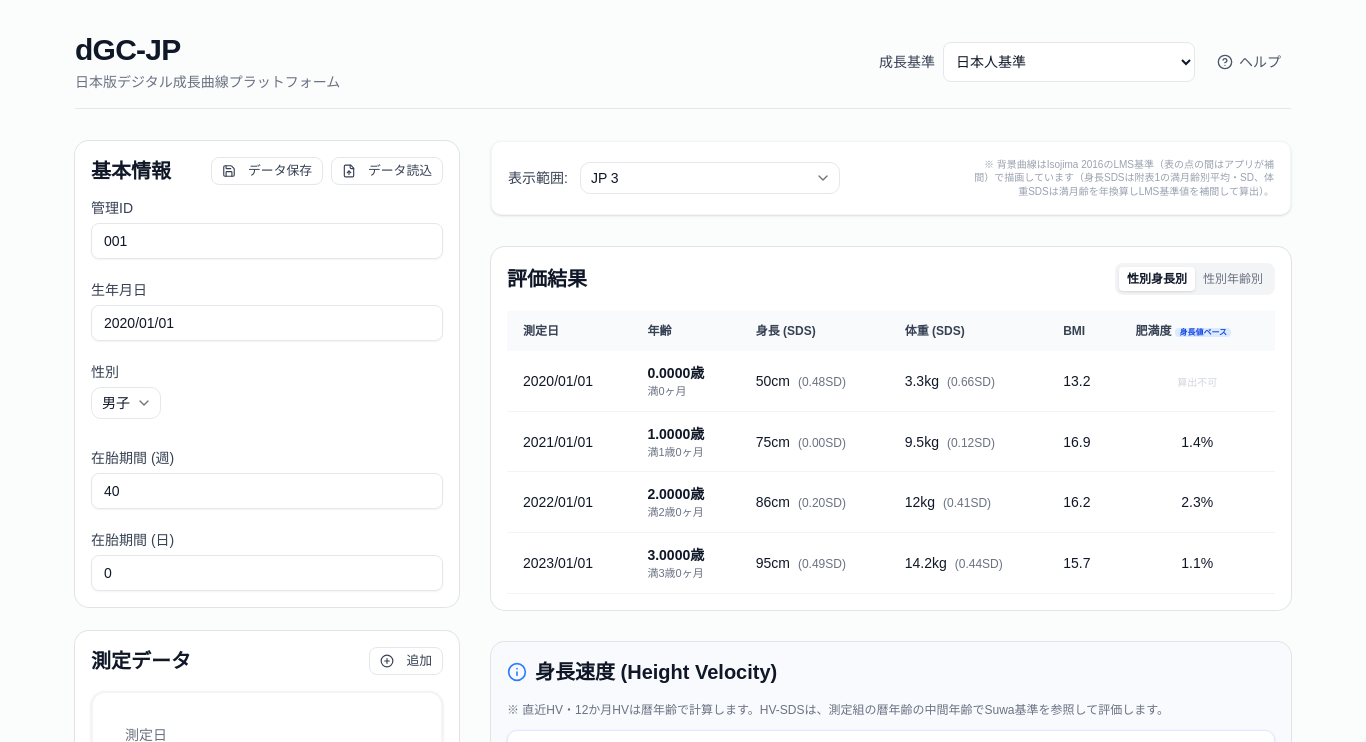
it: GrowthDashboard: returning to the Japanese reference › restores the Japanese results and features exactly as before
The width and height of the screenshot is (1366, 742).
Select "軟骨無形成症（CLARITY・米国）" in the dropdown labelled "成長基準" at {"x": 1069, "y": 62}, box [943, 42, 1195, 82]
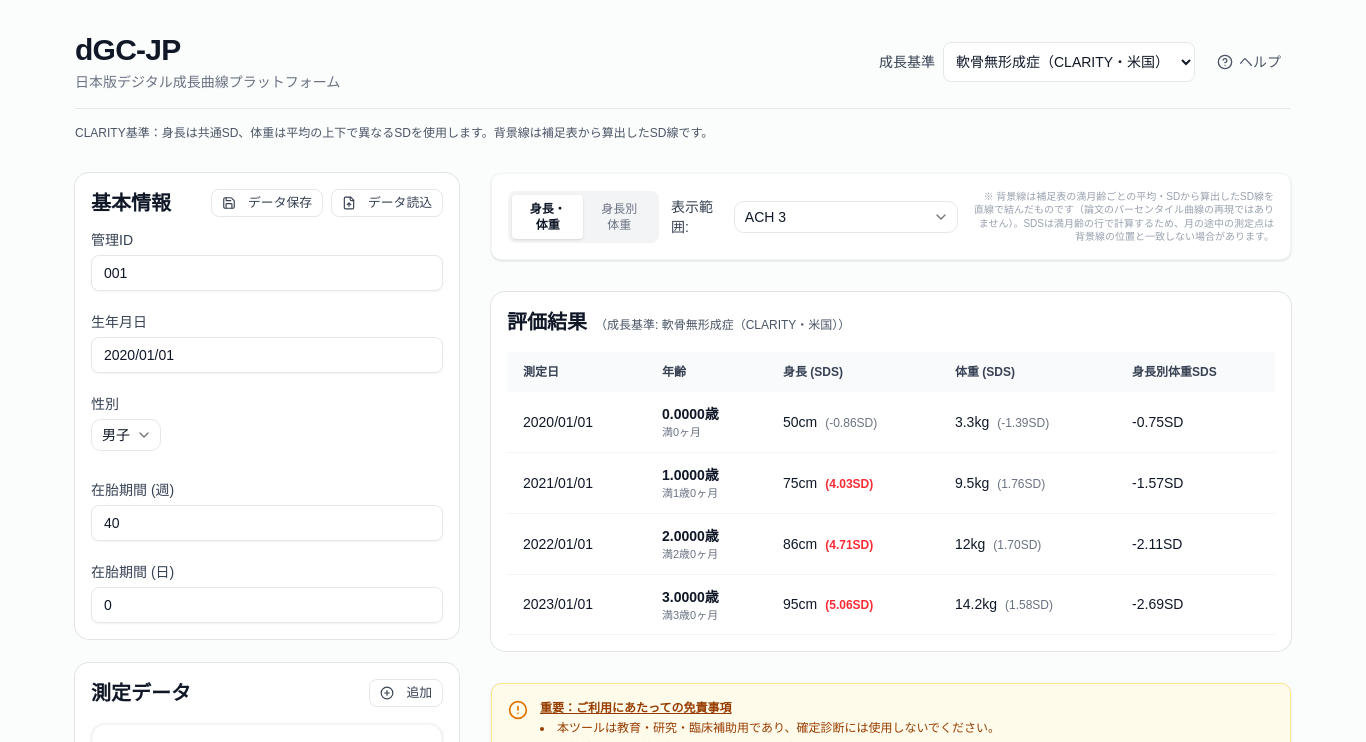
Select "日本人基準" in the dropdown labelled "成長基準" at {"x": 1069, "y": 62}, box [943, 42, 1195, 82]
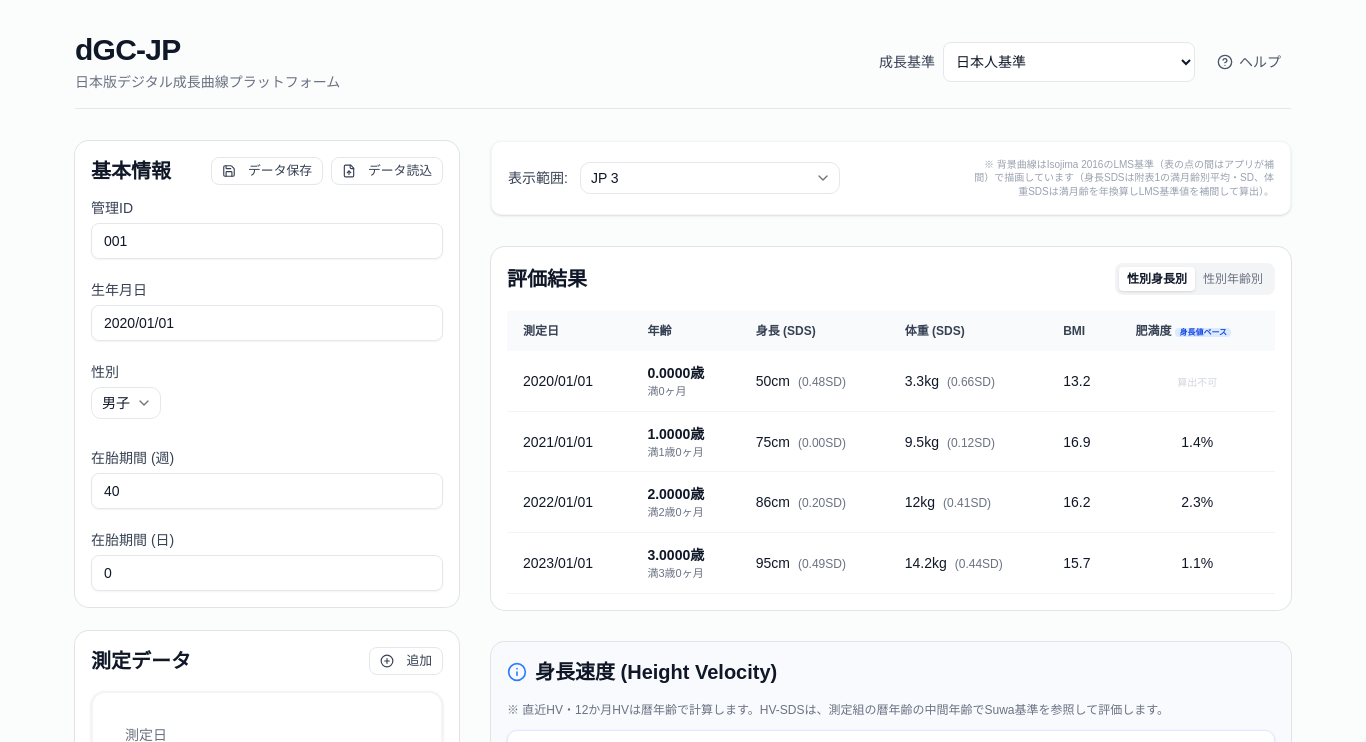
expect the column heading "BMI" is shown: met, box [1047, 311, 1119, 351]
expect the element named "肥満度の算出基準" is shown: met, box [1115, 263, 1275, 295]
expect the text with id "growth-reference-description" is gone: met
